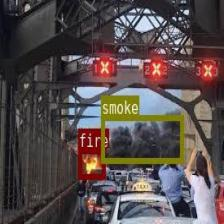fire: (78, 148, 105, 178)
smoke: (100, 115, 183, 162)
